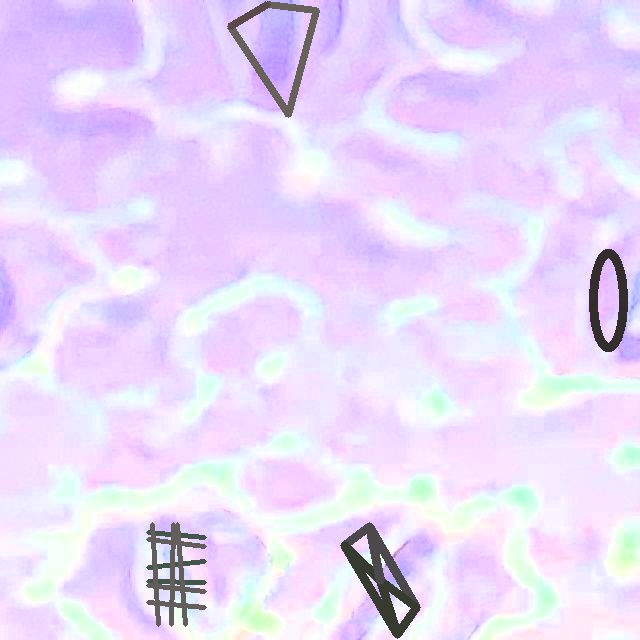open: (228, 2, 319, 116), (340, 522, 420, 637), (147, 522, 205, 626), (588, 247, 627, 352)
